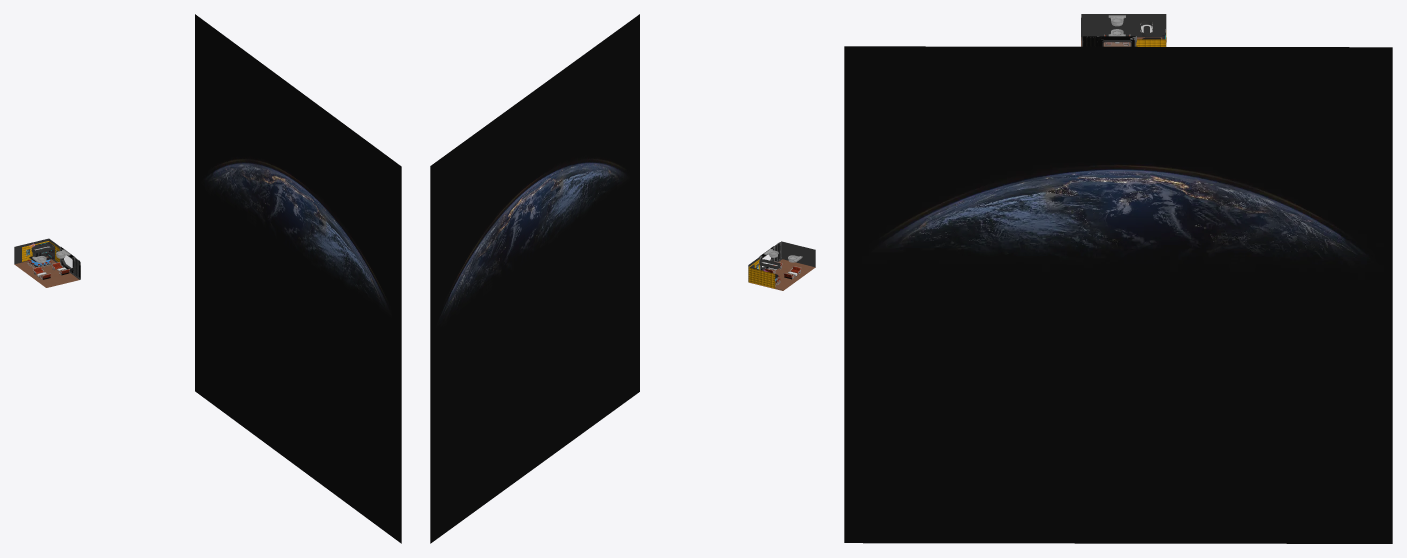
File: Scene_update-transformed.glb
The picture shows the model from 3 angles, left to right: view 1: azimuth 30°, elevation 25°; view 2: azimuth 150°, elevation 25°; view 3: azimuth 270°, elevation 25°; orthographic projection. The views are drawn at different scales.
Visible parts, largest first — view 1: SM_Background, SM_Floor, SM_Bottles.002; view 2: SM_Background, SM_Led, SM_Floor, SM_Bottles.002; view 3: SM_Background, SM_Led.
Part boxes in pixels (<box>): SM_Background: <box>195,14,401,543</box>; SM_Floor: <box>14,256,79,287</box>; SM_Bottles.002: <box>22,241,73,272</box>; SM_Background: <box>430,14,639,543</box>; SM_Led: <box>748,241,815,289</box>; SM_Floor: <box>749,259,815,290</box>; SM_Bottles.002: <box>748,254,775,288</box>; SM_Background: <box>844,46,1392,543</box>; SM_Led: <box>1081,14,1166,40</box>.
Bounding box in the file's own units: 58.34 × 78.82 × 78.82.
17 materials, 17 textured.
